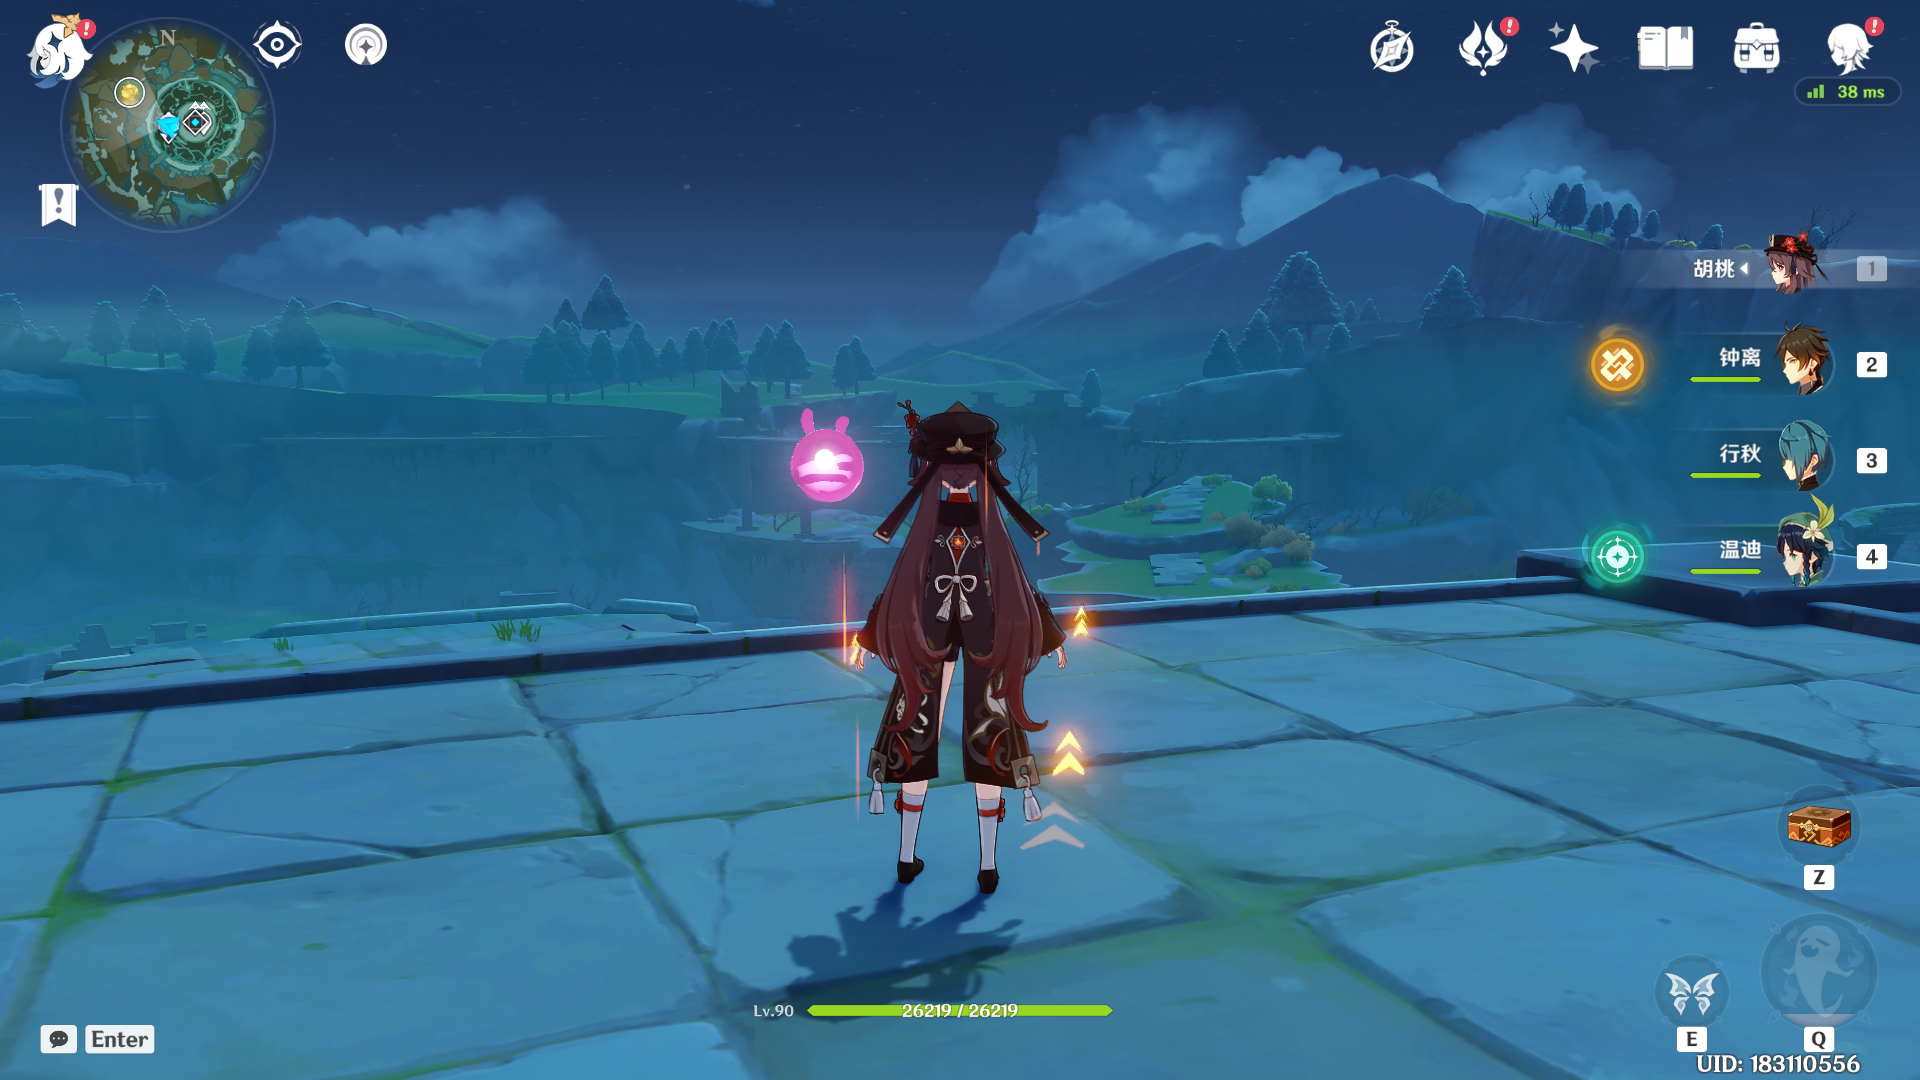character: (818, 396, 1158, 935)
